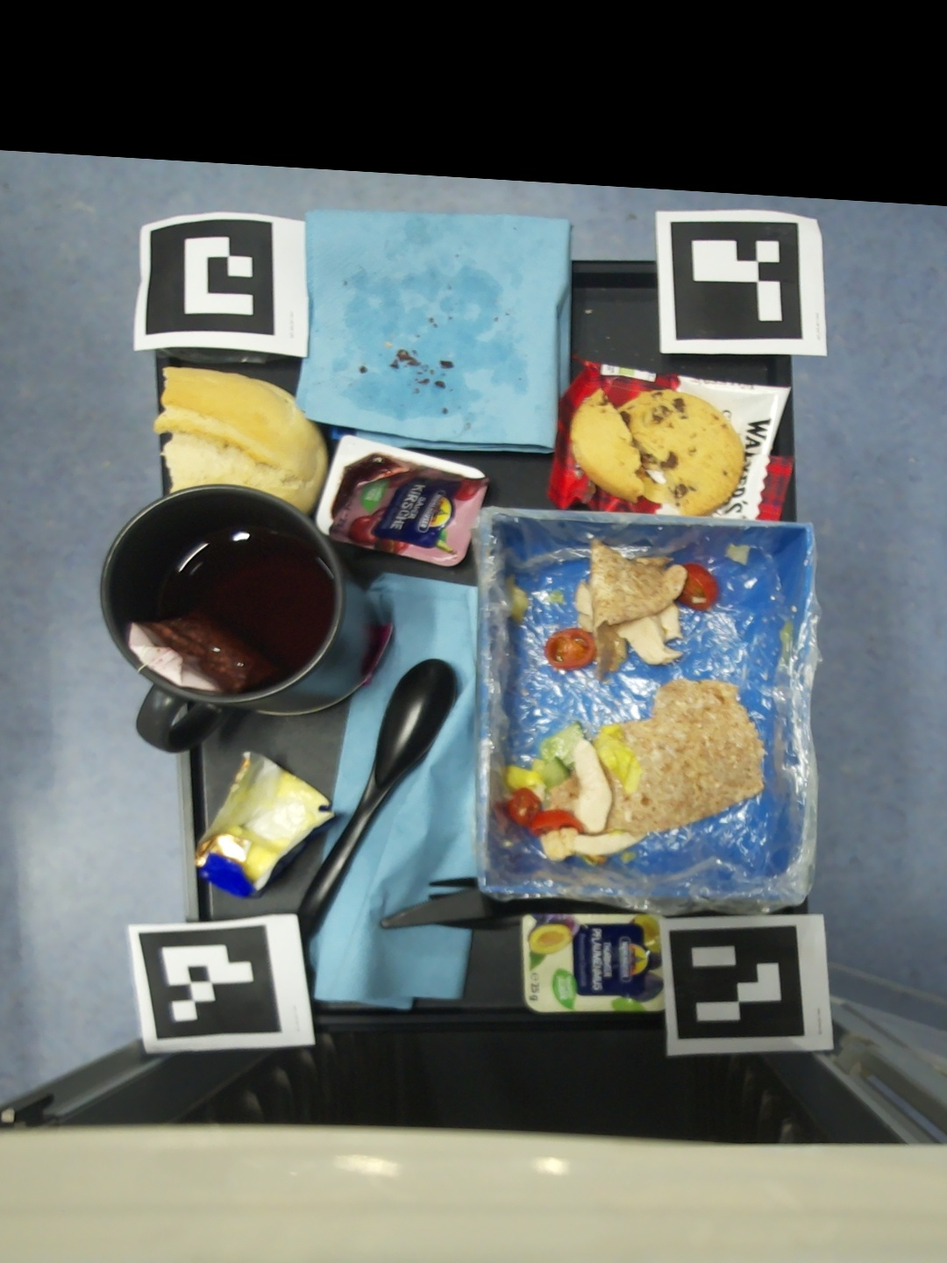bread_roll: (153, 366, 327, 515)
brownie: (391, 349, 420, 368)
butter: (195, 750, 336, 900)
cherry_jam: (315, 435, 490, 566)
cookie: (544, 354, 794, 520)
plum_jam: (522, 913, 666, 1012)
tea_cup: (101, 485, 377, 753)
wrap_half_1: (545, 536, 719, 680), (506, 574, 529, 624), (727, 543, 750, 567), (780, 622, 794, 660), (546, 588, 564, 603)
wrap_half_2: (505, 679, 765, 864)
